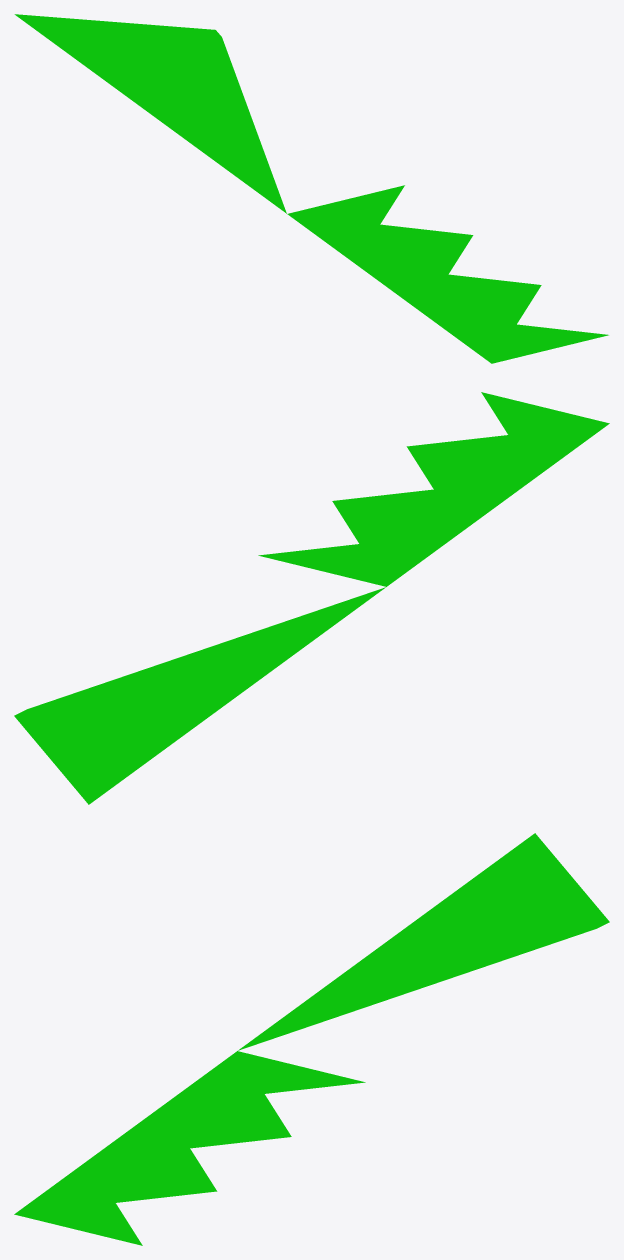
3 views of the same model, one above another, from view 1: azimuth 30°, elevation 25°; view 2: azimuth 150°, elevation 25°; view 3: azimuth 330°, elevation 25° (orthographic). The views are drawn at different scales.
Size of the model in its own units: 34.3 by 0 by 210.
